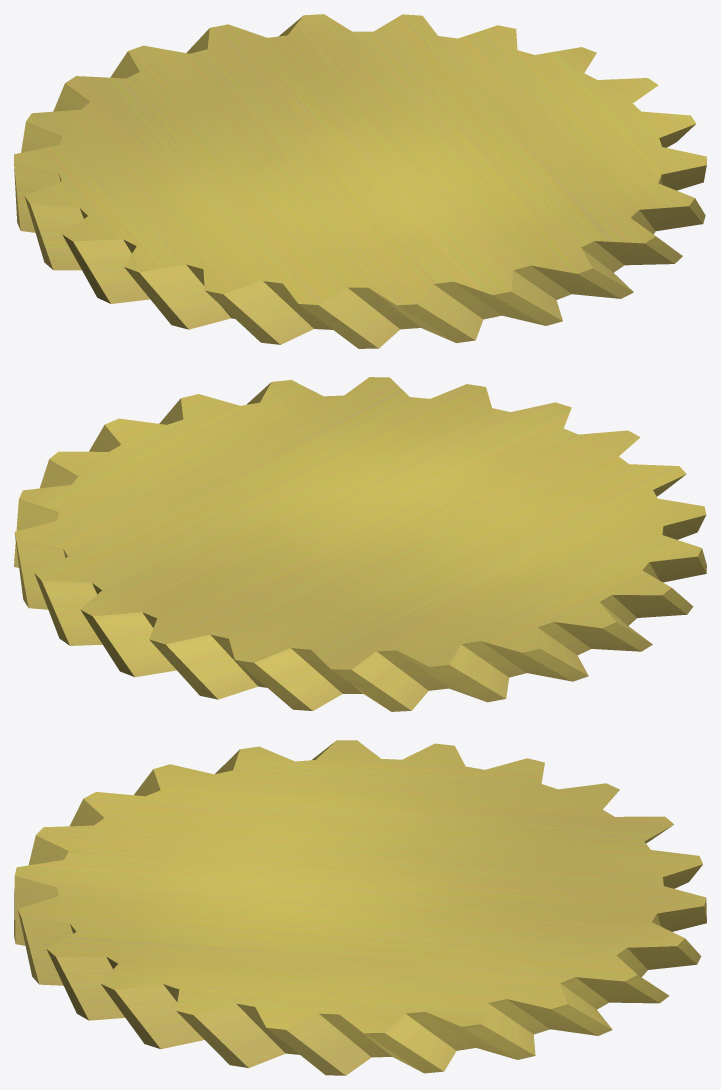
The model's file is CogSpiral022.fbx.
The picture shows the model from 3 angles, top to bottom: view 1: azimuth 30°, elevation 25°; view 2: azimuth 150°, elevation 25°; view 3: azimuth 270°, elevation 25°; orthographic projection.
Visible parts, largest first — view 1: CogSpiral022; view 2: CogSpiral022; view 3: CogSpiral022.
Boxes of the visible parts, x1,y1,x2,y2 form: CogSpiral022: (14, 14, 706, 348); CogSpiral022: (14, 377, 706, 711); CogSpiral022: (14, 740, 706, 1075).
Bounding box in the file's own units: 215 × 14.59 × 215.
